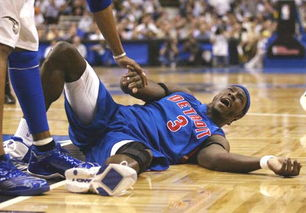10+: (1, 1, 306, 198)
down: (1, 38, 300, 199)
